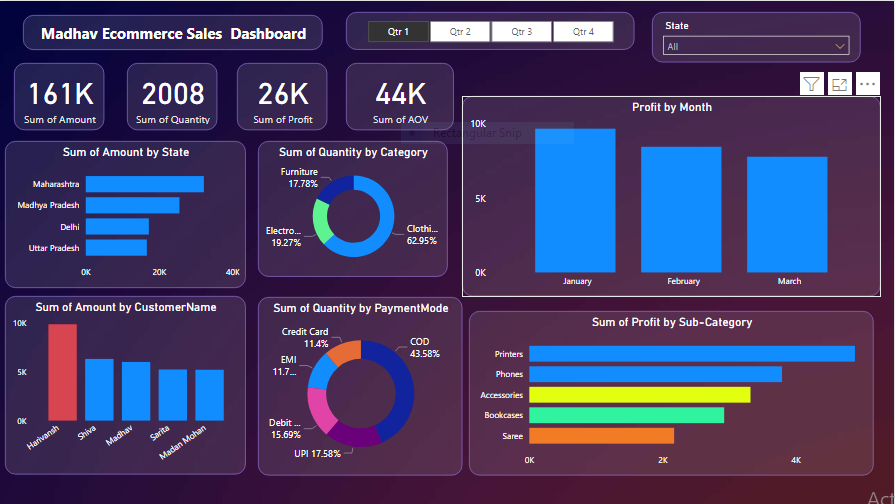

The page's visual inventory and layout, read from the dashboard file:
{"tool":"powerbi","page":{"name":"Page 1","canvas":[1280,720],"ordinal":0},"visuals":[{"type":"textbox","box":[35.4,19.8,428,49.6],"z":0},{"type":"columnChart","title":"Profit by Month","fields":{"Category":["Orders.Order Date.Variation.Date Hierarchy.Month"],"Y":["Details.Profit"]},"box":[663.3,136.1,598.1,286.3],"z":1000},{"type":"barChart","fields":{"Category":["Details.Sub-Category"],"Y":["Details.Profit"]},"box":[673.2,442.2,578.3,235.3],"z":2000},{"type":"donutChart","fields":{"Category":["Details.Category"],"Y":["Details.Quantity"]},"box":[371.3,199.8,270.7,194.2],"z":3000},{"type":"donutChart","fields":{"Category":["Details.PaymentMode"],"Y":["Details.Quantity"]},"box":[371.3,422.4,292,255.1],"z":4000},{"type":"card","fields":{"Values":["Details.Amount"]},"box":[22.7,87.9,129,96.4],"z":5000},{"type":"card","fields":{"Values":["Details.Quantity"]},"box":[184.3,87.9,129,96.4],"z":6000},{"type":"card","fields":{"Values":["Details.Profit"]},"box":[341.6,87.9,129,96.4],"z":7000},{"type":"card","fields":{"Values":["Details.AOV"]},"box":[497.5,87.9,154.5,96.4],"z":8000},{"type":"barChart","fields":{"Category":["Orders.State"],"Y":["Details.Amount"]},"box":[10.1,199.6,343.9,209.7],"z":9000},{"type":"clusteredColumnChart","fields":{"Category":["Orders.CustomerName"],"Y":["Details.Amount"]},"box":[10,422,344,255],"z":10000},{"type":"slicer","fields":{"Values":["Orders.Order Date.Variation.Date Hierarchy.Quarter"]},"box":[497.5,15.6,412.4,53.9],"z":11000},{"type":"slicer","fields":{"Values":["Orders.State"]},"box":[934,15.6,297.6,72.3],"z":12000}]}

Visuals, with their boxes in screenshot pixels (x1, y1, x2, y2), scaled from the page's 1280x720 canvas onto the 895x504 screenshot:
textbox: left=25, top=14, right=324, bottom=49
"Profit by Month" columnChart: left=464, top=95, right=882, bottom=296
barChart - Details.Sub-Category x Details.Profit: left=471, top=310, right=875, bottom=474
donutChart - Details.Category x Details.Quantity: left=260, top=140, right=449, bottom=276
donutChart - Details.PaymentMode x Details.Quantity: left=260, top=296, right=464, bottom=474
card - Details.Amount: left=16, top=62, right=106, bottom=129
card - Details.Quantity: left=129, top=62, right=219, bottom=129
card - Details.Profit: left=239, top=62, right=329, bottom=129
card - Details.AOV: left=348, top=62, right=456, bottom=129
barChart - Orders.State x Details.Amount: left=7, top=140, right=248, bottom=287
clusteredColumnChart - Orders.CustomerName x Details.Amount: left=7, top=295, right=248, bottom=474
slicer - Orders.Order Date.Variation.Date Hierarchy.Quarter: left=348, top=11, right=636, bottom=49
slicer - Orders.State: left=653, top=11, right=861, bottom=62
